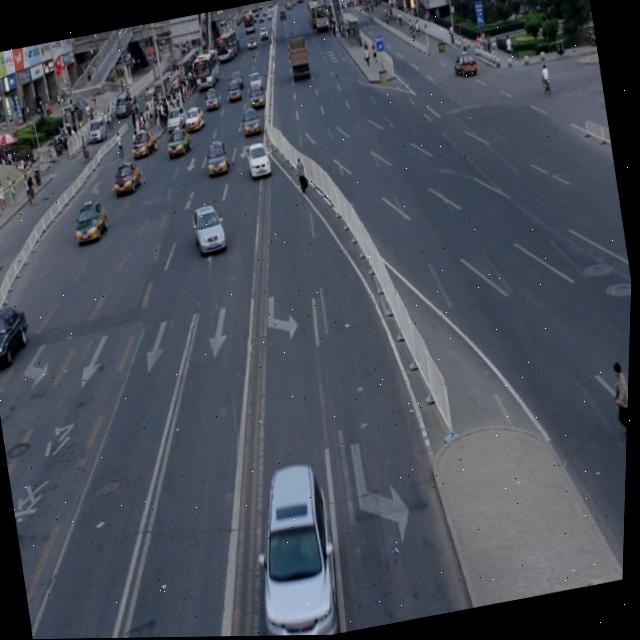car: (240, 456, 353, 637), (0, 301, 38, 367), (189, 200, 230, 257), (70, 199, 112, 247), (110, 157, 144, 198), (245, 139, 274, 183)
